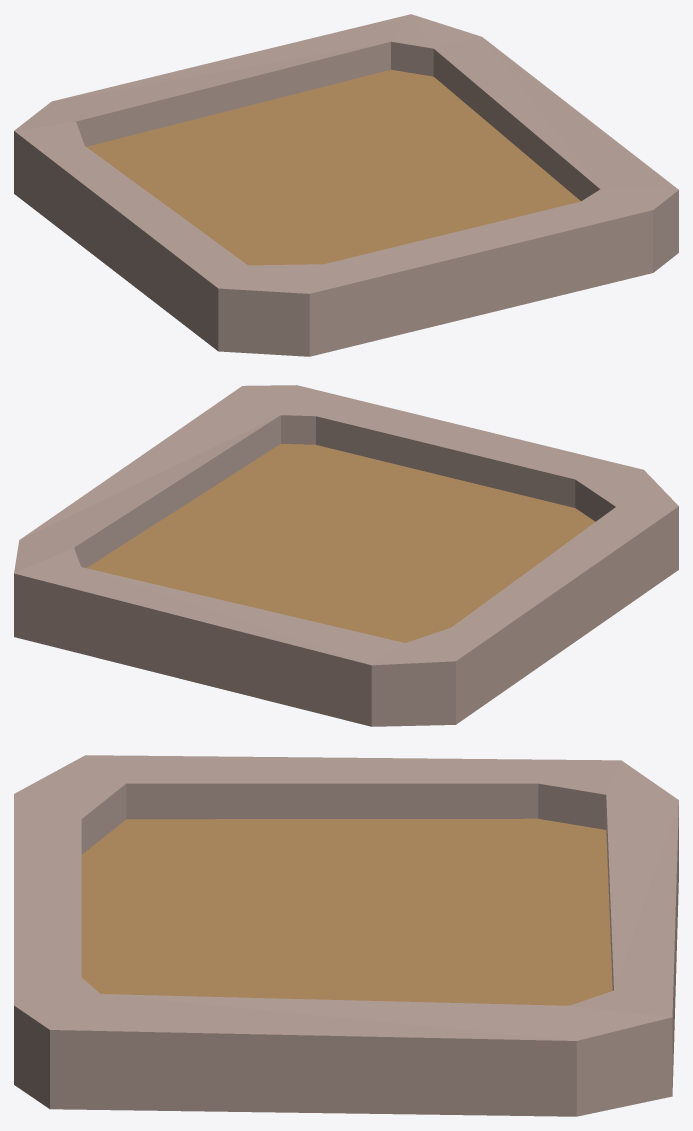
Rendered from flower_bed_1.fbx.
3 views of the same model, one above another, from view 1: azimuth 30°, elevation 25°; view 2: azimuth 150°, elevation 25°; view 3: azimuth 270°, elevation 25° (orthographic). The views are drawn at different scales.
Parts seen in each view (by area): view 1: flower_bed_1; view 2: flower_bed_1; view 3: flower_bed_1.
Boxes of the visible parts, <box> form: flower_bed_1: <box>14,14,678,356</box>; flower_bed_1: <box>14,385,678,726</box>; flower_bed_1: <box>14,755,678,1116</box>.
Bounding box in the file's own units: 235 × 30.87 × 234.
